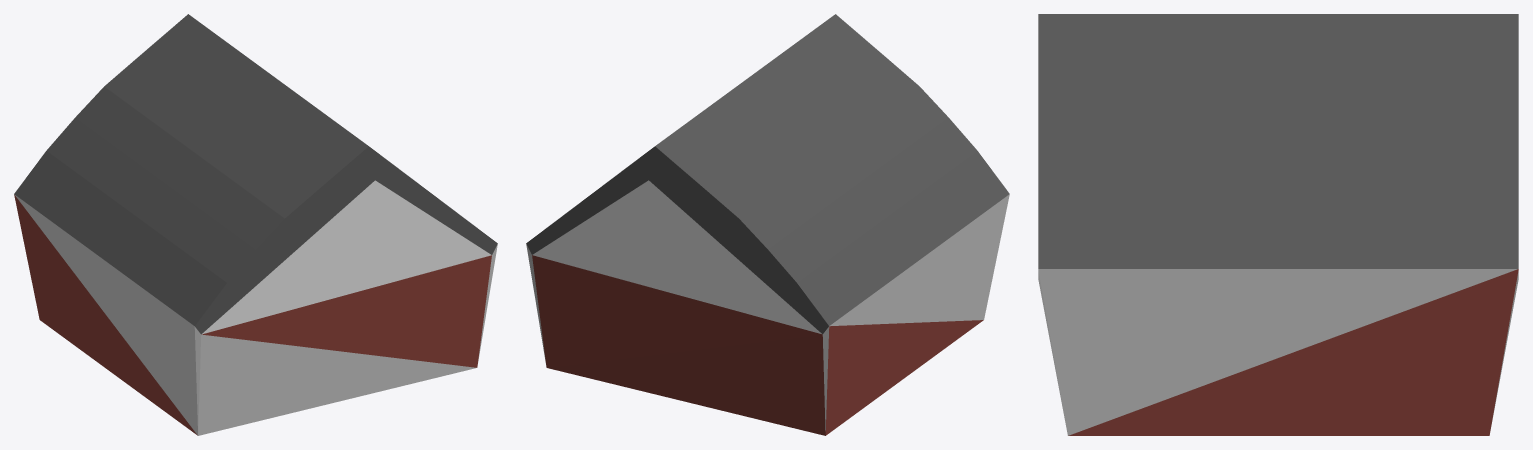
The model's file is SmallBarn.lod4.glb.
The picture shows the model from 3 angles, left to right: view 1: azimuth 30°, elevation 25°; view 2: azimuth 150°, elevation 25°; view 3: azimuth 270°, elevation 25°; orthographic projection. The views are drawn at different scales.
Parts seen in each view (by area): view 1: Small_Barn; view 2: Small_Barn; view 3: Small_Barn.
Boxes of the visible parts, x1,y1,x2,y2 form: Small_Barn: [14, 14, 497, 435]; Small_Barn: [526, 14, 1009, 435]; Small_Barn: [1038, 14, 1518, 435].
Size of the model in its own units: 6.08 by 4.96 by 6.27.
